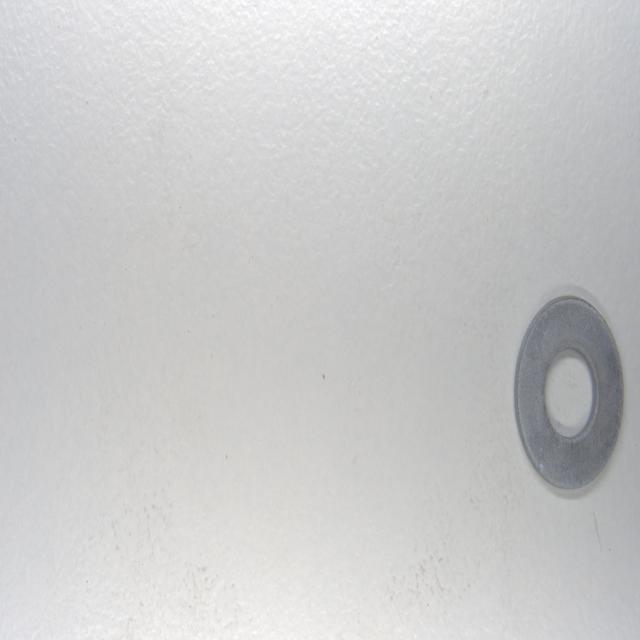washer: (512, 296, 626, 492)
